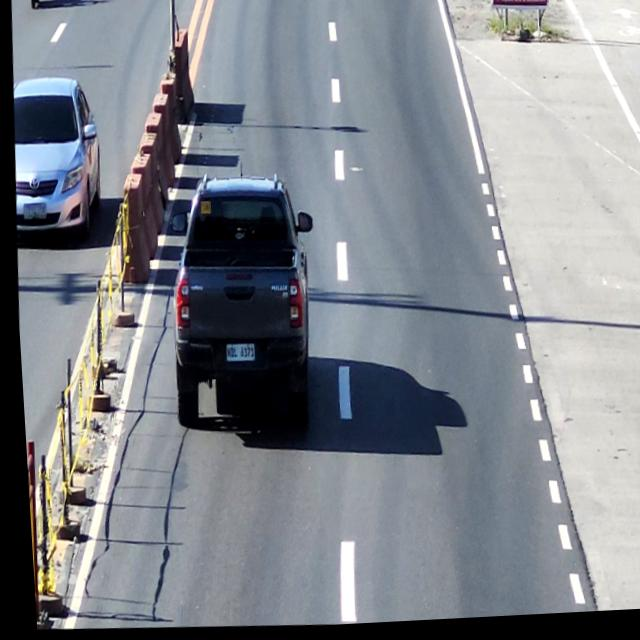Car: (160, 170, 318, 443), (7, 72, 107, 245)
License-Plate: (216, 342, 253, 365), (18, 201, 47, 222)
